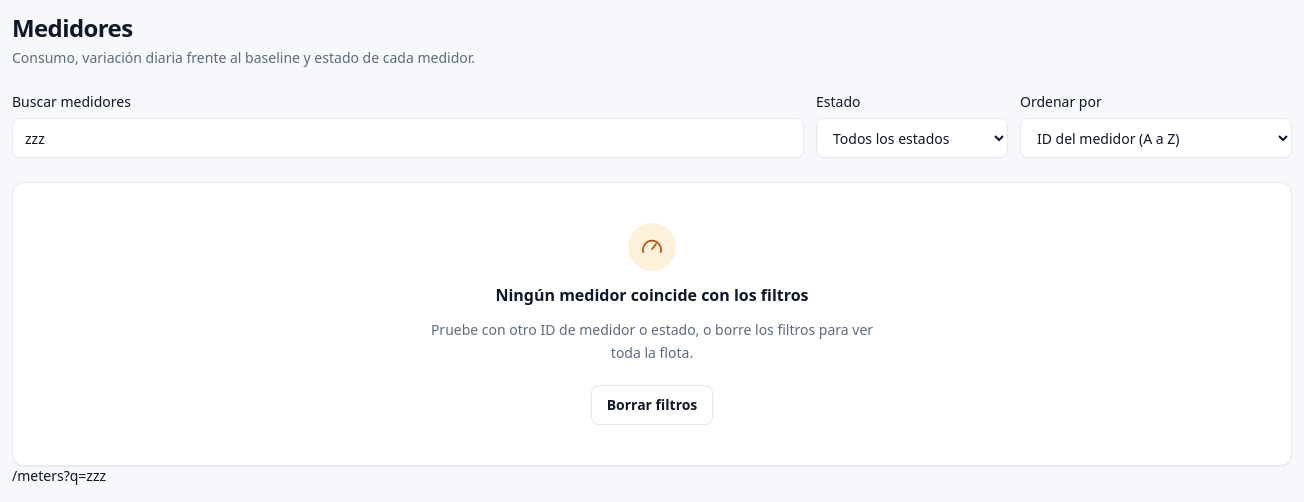
MetersPage › clears every filter from the empty state
Expected: the heading "Ningún medidor coincide con los filtros" is shown, 495,283 -> 808,307
Click the button "Borrar filtros": (652, 404) 591,384 -> 713,424
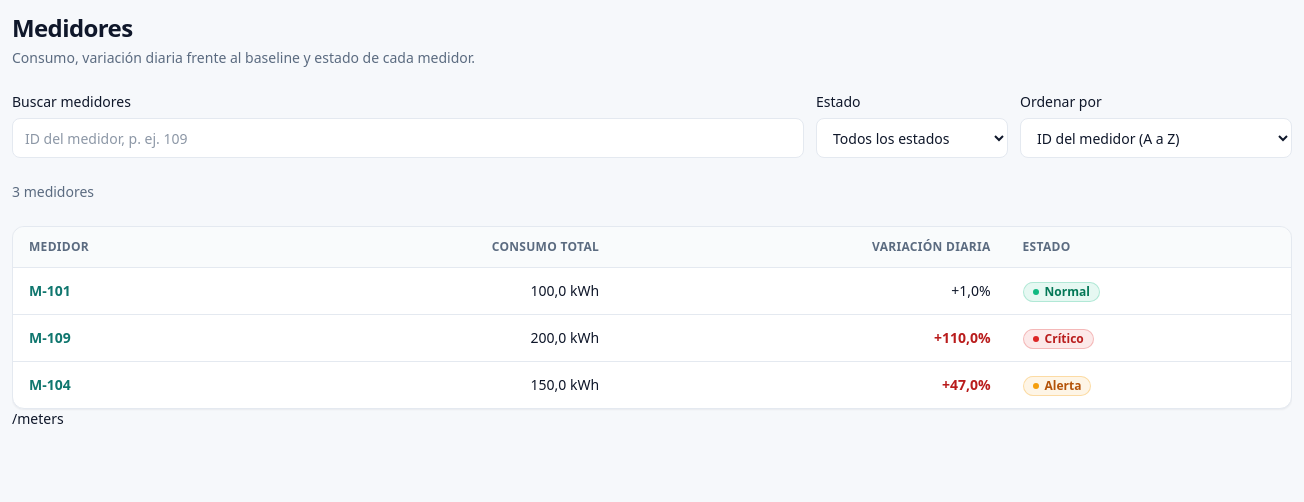
Now the link "M-101" is shown, box 29,281 -> 71,300
Now the text named "location" reads "/meters", box 12,409 -> 64,428
